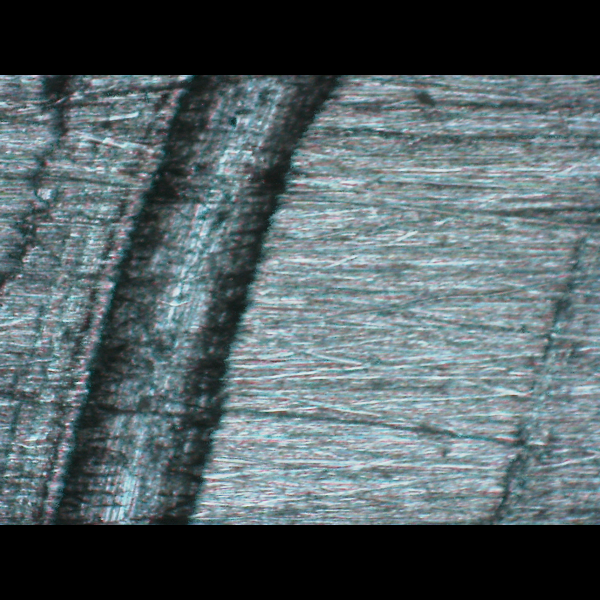d: (0, 75, 360, 523)
